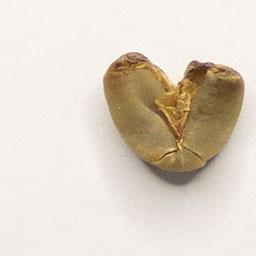defect: (98, 50, 248, 177)
